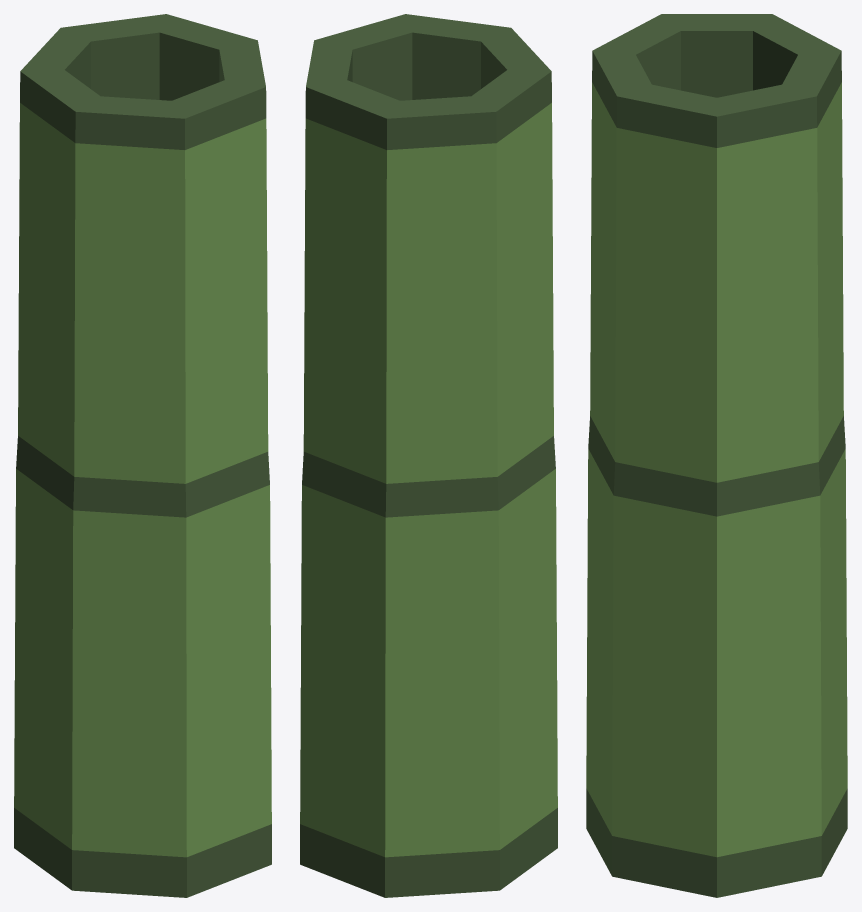
File: Bamboo_Crop.gltf
The picture shows the model from 3 angles, left to right: view 1: azimuth 30°, elevation 25°; view 2: azimuth 150°, elevation 25°; view 3: azimuth 270°, elevation 25°; orthographic projection.
Visible parts, largest first — view 1: Bamboo_Crop; view 2: Bamboo_Crop; view 3: Bamboo_Crop.
Boxes of the visible parts, left/top/right/bottom form: Bamboo_Crop: left=14, top=14, right=271, bottom=897; Bamboo_Crop: left=300, top=14, right=557, bottom=897; Bamboo_Crop: left=586, top=14, right=847, bottom=897.
Bounding box in the file's own units: 0.0968 × 0.3264 × 0.0993.
